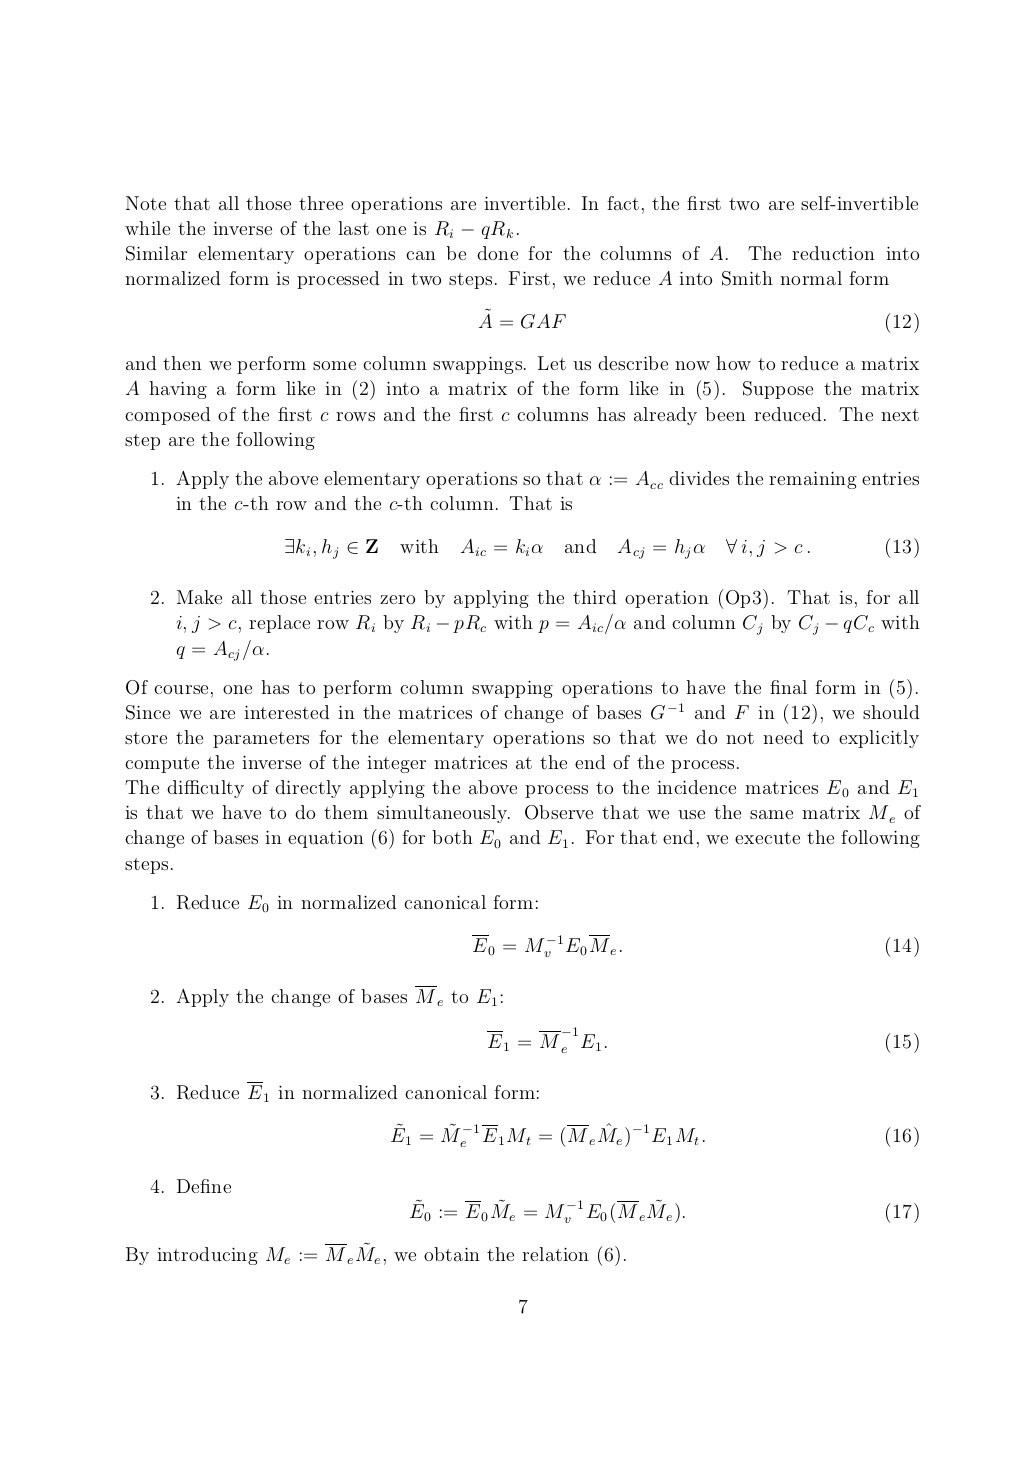formula: (285, 537, 918, 559), (409, 1198, 918, 1224), (391, 1122, 918, 1147), (486, 1026, 918, 1053), (472, 934, 918, 958), (478, 308, 918, 332)
